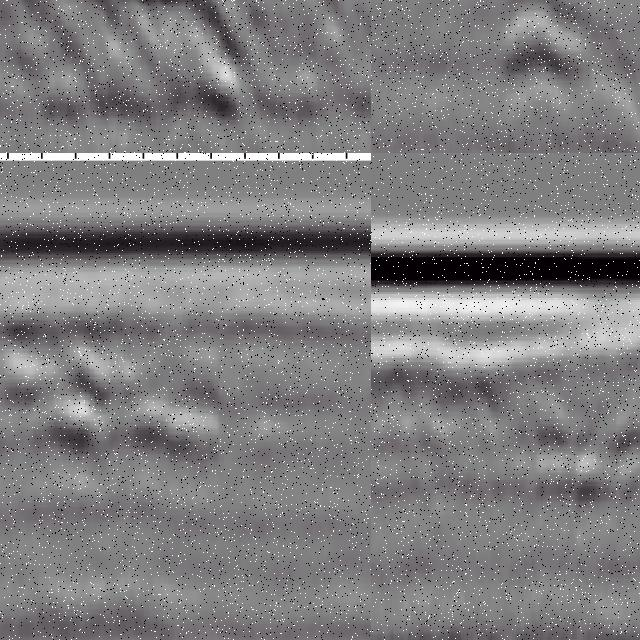loose: (1, 1, 372, 116), (1, 312, 231, 468), (504, 1, 632, 106), (603, 333, 640, 481)
